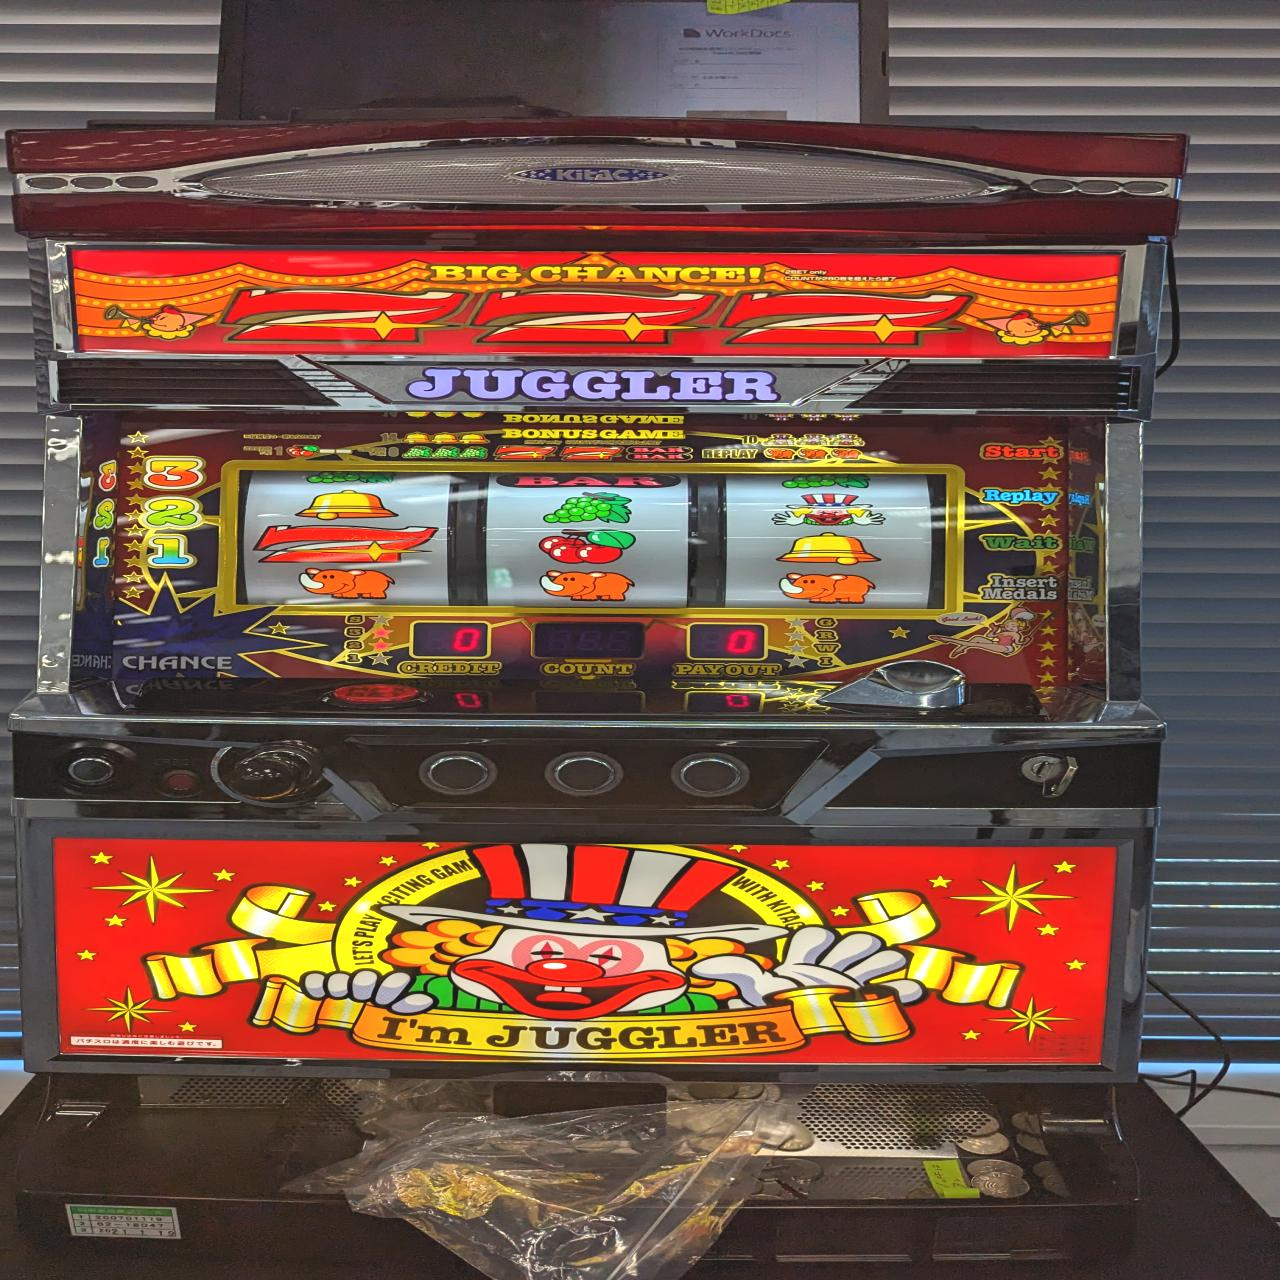7: (251, 524, 441, 567)
8: (288, 566, 399, 601), (772, 571, 880, 606), (535, 568, 639, 602)
Display: (230, 464, 955, 613)
bell: (775, 531, 883, 567), (293, 486, 402, 522)
cherry: (539, 526, 638, 565)
clown: (769, 492, 890, 529)
grape: (538, 489, 638, 525)
